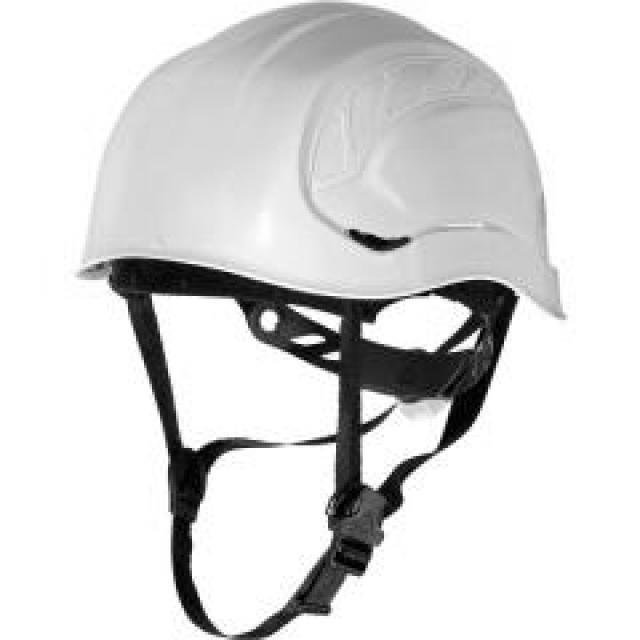safety_helmet: (75, 8, 568, 640)
